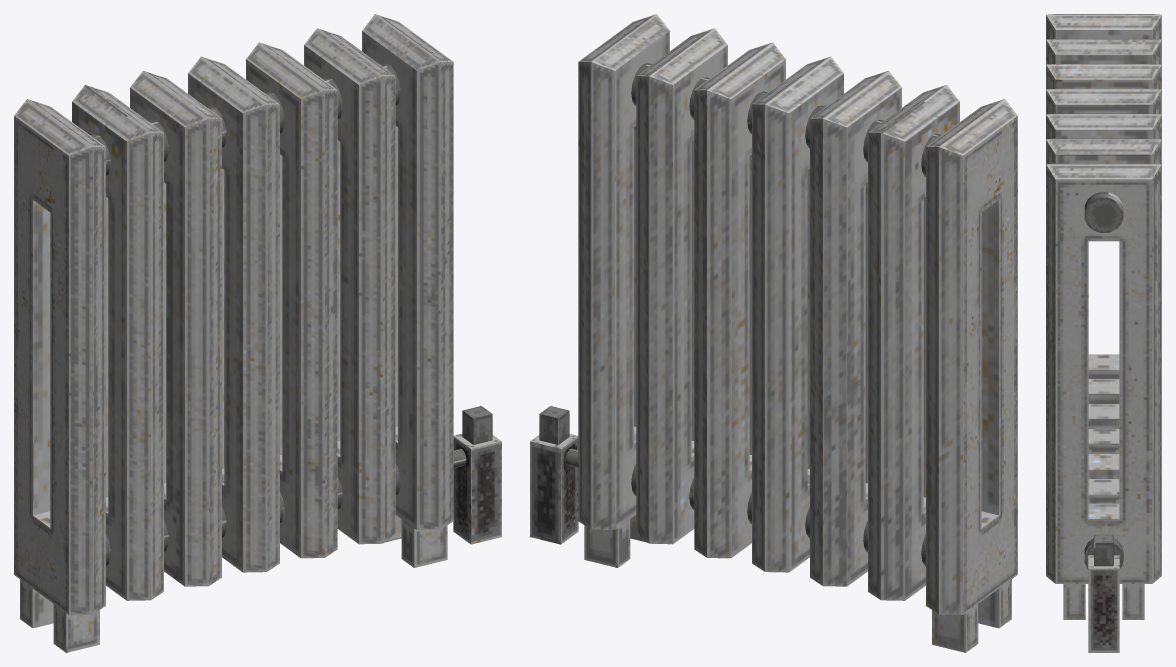
Rendered from Radiator.glb.
3 views of the same model, side by side, from view 1: azimuth 30°, elevation 25°; view 2: azimuth 150°, elevation 25°; view 3: azimuth 270°, elevation 25° (orthographic). The views are drawn at different scales.
Parts seen in each view (by area): view 1: Radiator; view 2: Radiator; view 3: Radiator.
Boxes of the visible parts, left/top/right/bottom form: Radiator: left=14, top=14, right=501, bottom=652; Radiator: left=530, top=14, right=1017, bottom=652; Radiator: left=1046, top=14, right=1161, bottom=652.
Bounding box in the file's own units: 0.7784 × 0.8457 × 0.1965.
Materials: 1 (1 with a texture image).
